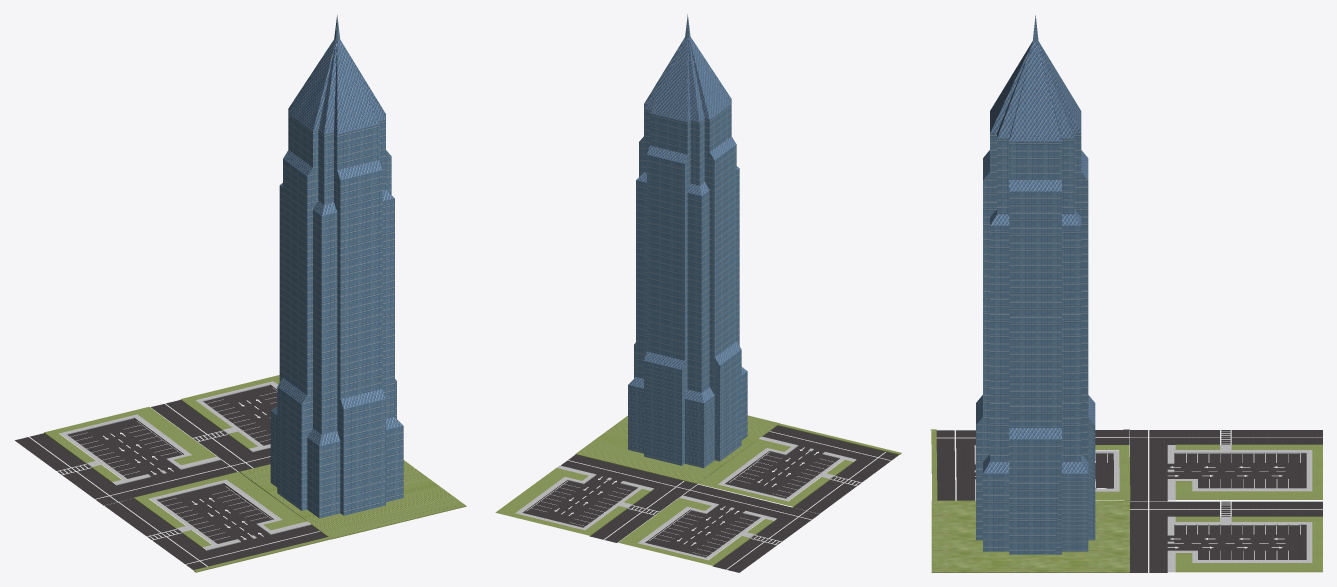
File: exterior.glb
3 views of the same model, side by side, from view 1: azimuth 30°, elevation 25°; view 2: azimuth 150°, elevation 25°; view 3: azimuth 270°, elevation 25° (orthographic). The views are drawn at different scales.
Parts seen in each view (by area): view 1: Building, Material3.005, Material3.009, Material3.002, Material3.001, Material3.011, Material3.007, Material3.010, Material3.006, Material3.003; view 2: Building, Material3.001, Material3.005, Material3.009, Material3.002, Material3.011, Material3.007, Material3.003, Material3.006, Material3.010; view 3: Building, Material3.002, Material3.001, Material3.005, Material3.009, Material3.007, Material3.006, Material3.003, Material3.011.
Boxes of the visible parts, left/top/right/bottom form: Building: left=270, top=15, right=403, bottom=518; Material3.005: left=15, top=418, right=237, bottom=505; Material3.009: left=104, top=483, right=327, bottom=569; Material3.002: left=180, top=375, right=466, bottom=539; Material3.001: left=151, top=384, right=277, bottom=471; Material3.011: left=134, top=472, right=330, bottom=572; Material3.007: left=44, top=407, right=216, bottom=485; Material3.010: left=149, top=479, right=311, bottom=550; Material3.006: left=59, top=414, right=221, bottom=485; Material3.003: left=195, top=381, right=277, bottom=452; Building: left=628, top=14, right=747, bottom=468; Material3.001: left=523, top=454, right=696, bottom=542; Material3.005: left=645, top=484, right=819, bottom=572; Material3.009: left=725, top=425, right=898, bottom=513; Material3.002: left=495, top=415, right=779, bottom=535; Material3.011: left=698, top=423, right=901, bottom=506; Material3.007: left=618, top=498, right=776, bottom=565; Material3.003: left=515, top=465, right=653, bottom=530; Material3.006: left=637, top=495, right=776, bottom=560; Material3.010: left=718, top=436, right=855, bottom=501; Building: left=976, top=15, right=1095, bottom=554; Material3.002: left=931, top=500, right=1322, bottom=572; Material3.001: left=1130, top=501, right=1322, bottom=572; Material3.005: left=1130, top=430, right=1322, bottom=501; Material3.009: left=936, top=430, right=1129, bottom=500; Material3.007: left=1125, top=444, right=1322, bottom=500; Material3.006: left=1167, top=445, right=1312, bottom=500; Material3.003: left=1167, top=516, right=1312, bottom=572; Material3.011: left=931, top=429, right=1130, bottom=500.
Bounding box in the file's own units: 274 × 463 × 318.
Materials: 7 (5 with a texture image).
